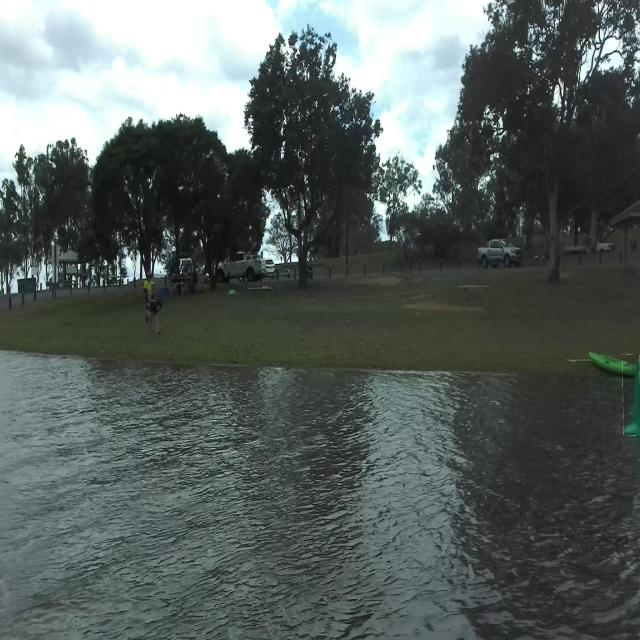Green_Buoy: (628, 370, 640, 439)
